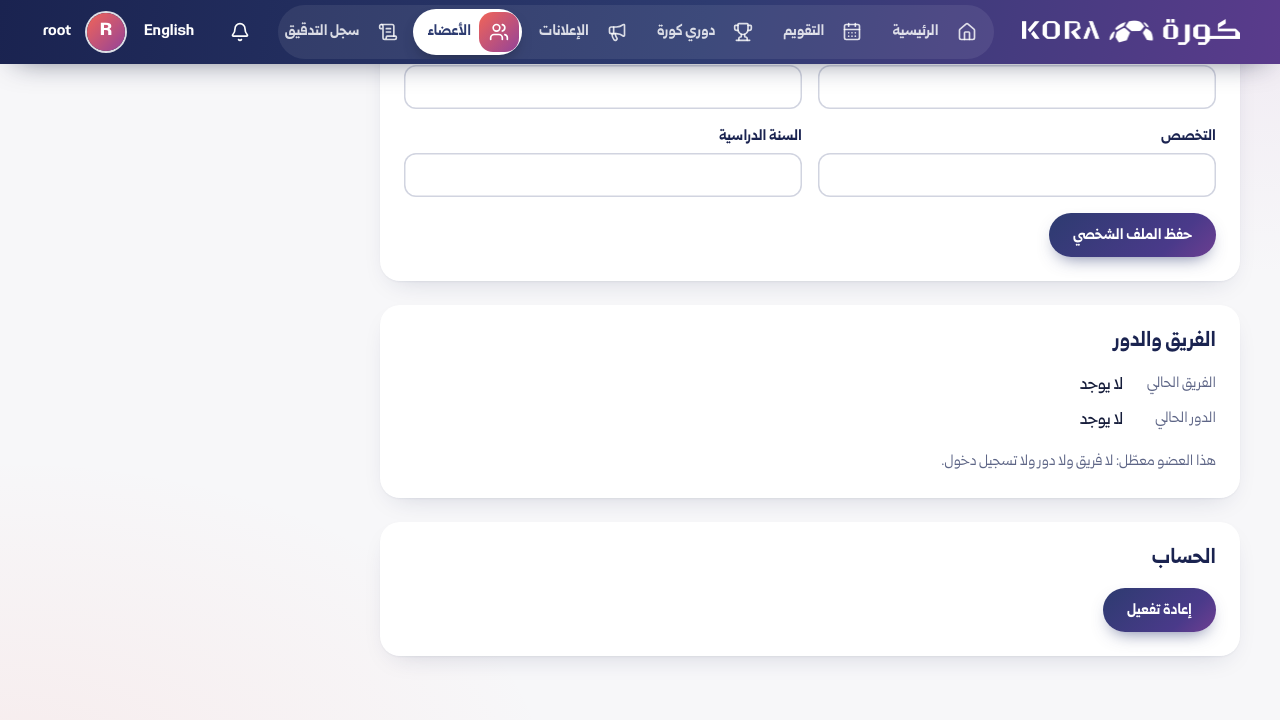
Members (System Admin) › offers reactivation (team + role) for a deactivated Member
(page scrolled)
Expected: the text "هذا العضو معطّل: لا فريق ولا دور ولا تسجيل دخول." is shown, [941, 451, 1216, 472]
Click the button "إعادة تفعيل" at (1160, 610), box [1103, 588, 1216, 632]
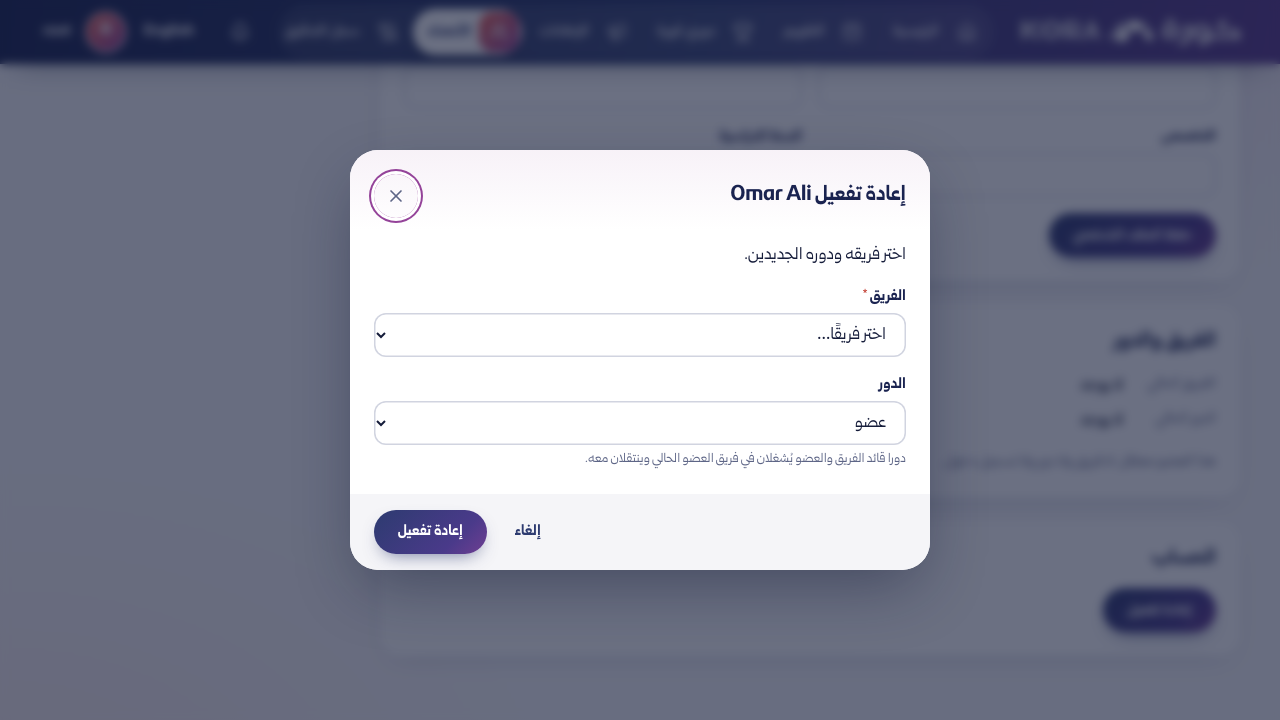
Expected: the dropdown labelled "الفريق *" is shown, [374, 313, 906, 357]
Expected: the dropdown labelled "الدور" is shown, [374, 401, 906, 445]
